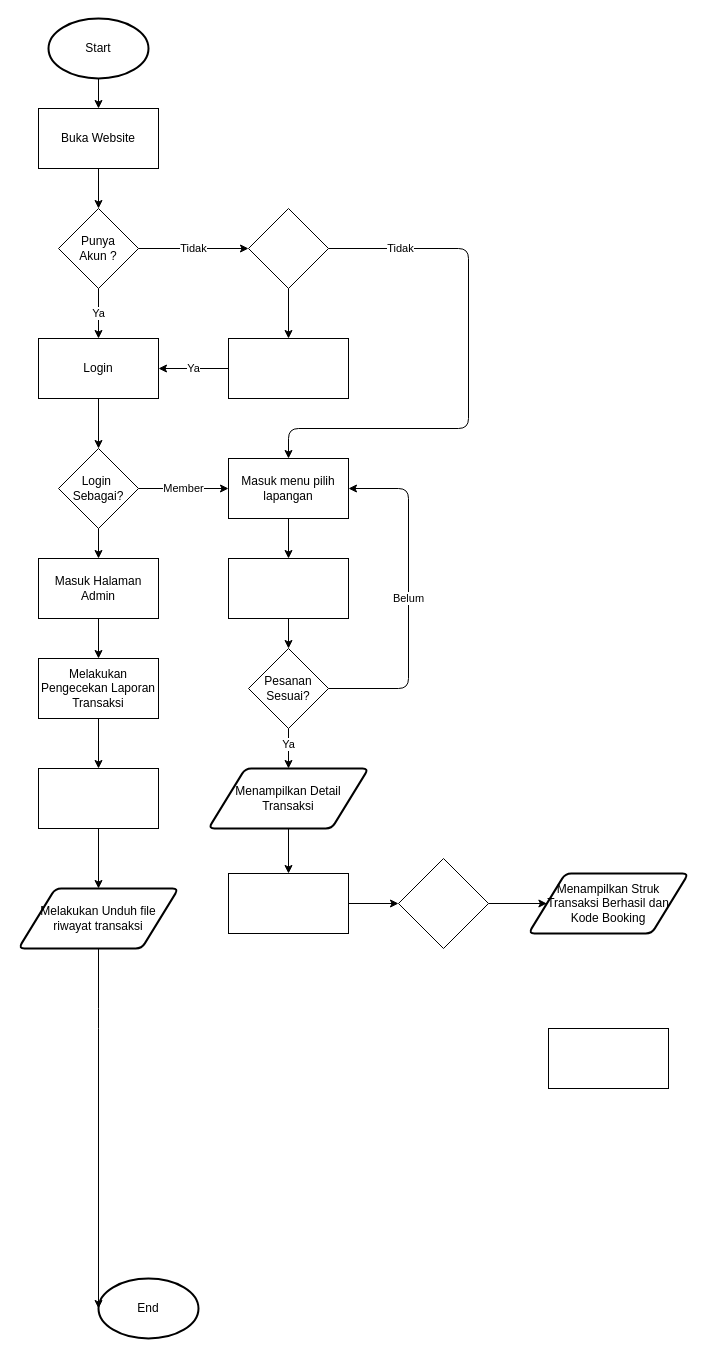
The diagram is 706 pixels wide and 1356 high, and some of its shapes have lost their labels. The box of each missing label's shape, as (x1, y1, x2, y2) in pixels:
Ingin Mendaftar?: (248, 208, 328, 288)
Melakukan Export Riwayat Transaksi: (38, 768, 158, 828)
Melakukan Pembayaran: (228, 872, 348, 934)
Pembayaran Berhasil?: (398, 858, 488, 948)
Pilih Jam Main: (228, 558, 348, 618)
Register: (228, 338, 348, 398)
